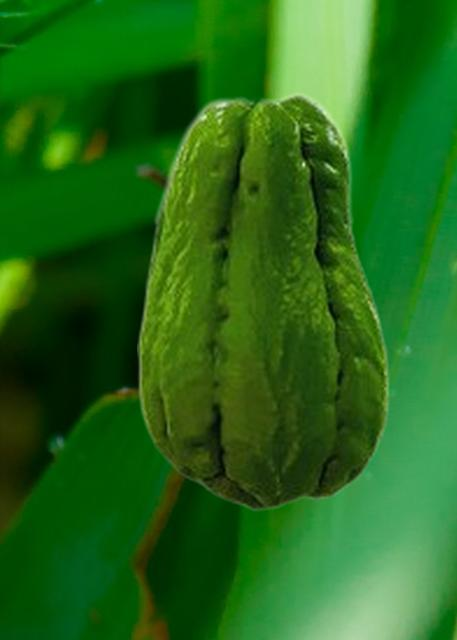sayote: (137, 91, 389, 511)
